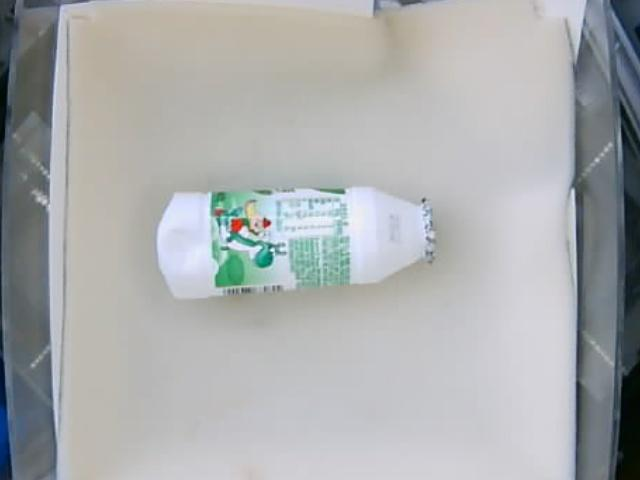Bottle: (161, 187, 436, 301)
